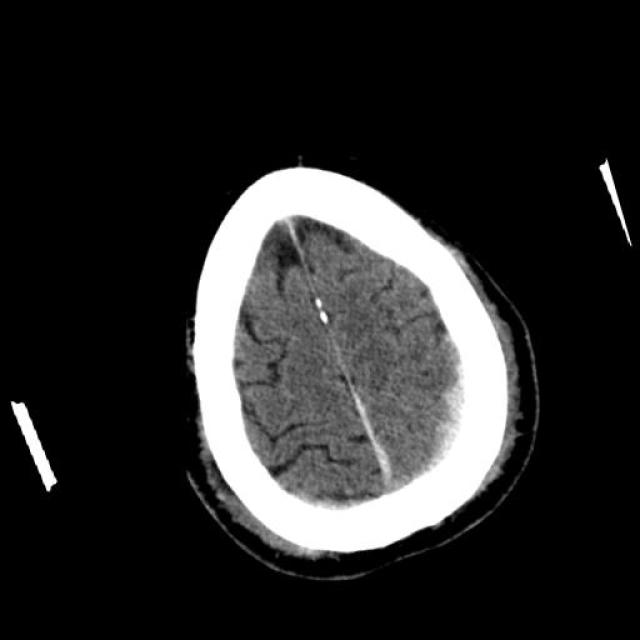Subdural: (378, 348, 522, 496), (330, 382, 420, 528)
